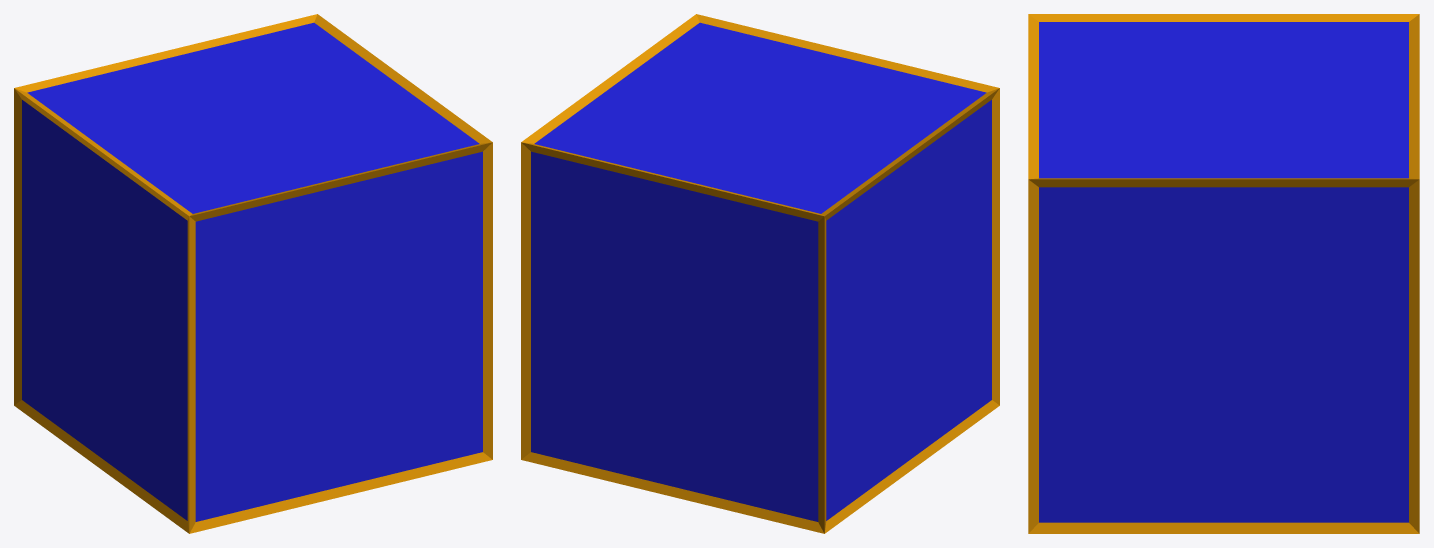
3 renders of one model, left to right at view 1: azimuth 30°, elevation 25°; view 2: azimuth 150°, elevation 25°; view 3: azimuth 270°, elevation 25°, orthographic. The views are drawn at different scales.
Parts seen in each view (by area): view 1: d6; view 2: d6; view 3: d6.
Part boxes in pixels (x1,y1,x2,y2): d6: (14,14,492,533); d6: (521,14,999,533); d6: (1028,14,1419,533).
Size of the model in its own units: 2.04 by 2.04 by 2.04.
